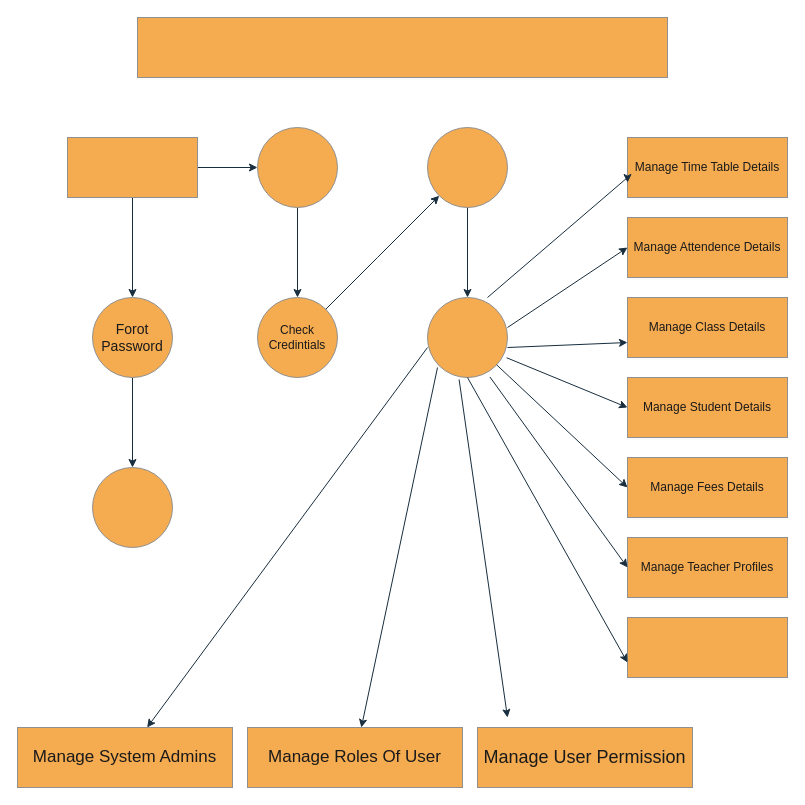
Image size: 805x805. Some labels were removed from this diagram. The shapes that lost their labels are listed below. From the top down, each one's centre as x and y in pixels, then its label:
At (402,47): "student information system".
At (132,167): "Admin".
At (297,167): "Lgin to syatem".
At (467,167): "Check Role of Access".
At (467,337): "Manage Module s".
At (132,507): "Send E mail to User".
